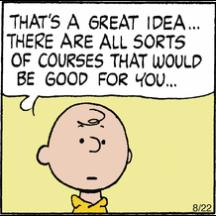charlie: (35, 102, 133, 214)
